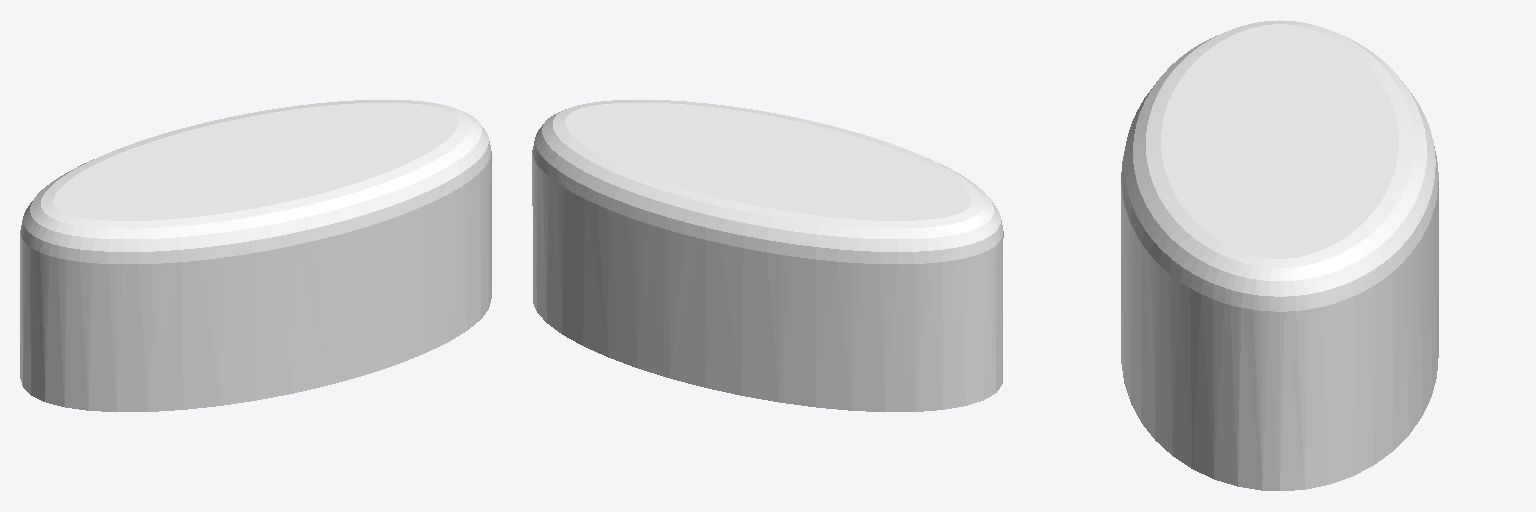
robot.urdf — urdf_robot:
<?xml version="1.0" ?>
<robot name="urdf_robot">

  <link name="base_link">
    <contact>
      <rolling_friction value="0.001"/>
      <spinning_friction value="0.001"/>
    </contact>
    <inertial>
      <origin rpy="0 0 0" xyz="0 0 0"/>
       <mass value=".1"/>
       <inertia ixx="1" ixy="0" ixz="0" iyy="1" iyz="0" izz="1"/>
    </inertial>
    <visual>
      <origin rpy="0 0 0" xyz="0 0 0"/>
      <geometry>
        <mesh filename="ellipse.obj" scale="1 1 1"/>
      </geometry>
      <material name="white">
        <color rgba="1 1 1 1"/>
      </material>
    </visual>
    <collision>
      <origin rpy="0 0 0" xyz="0 0 0"/>
      <geometry>
        <mesh filename="ellipse.obj" scale="1 1 1"/>
      </geometry>
    </collision>
  </link>
</robot>

--- Render facts (derived) ---
3 views of the same robot in one strip: view 1: azimuth 30°, elevation 25°; view 2: azimuth 150°, elevation 25°; view 3: azimuth 270°, elevation 25° (orthographic).
Model urdf_robot with 1 links and 0 joints (none), rooted at base_link, posed every joint at zero.
Links seen in each view (by area): view 1: base_link; view 2: base_link; view 3: base_link.
Link boxes in pixels (left/top/right/bottom): base_link: left=20, top=100, right=491, bottom=411; base_link: left=532, top=100, right=1003, bottom=411; base_link: left=1121, top=20, right=1438, bottom=490.
Bounding box of the posed robot: 0.008 × 0.004 × 0.003 m (x, y, z).
1 mesh visuals loaded from 1 distinct referenced files (1 OBJ).